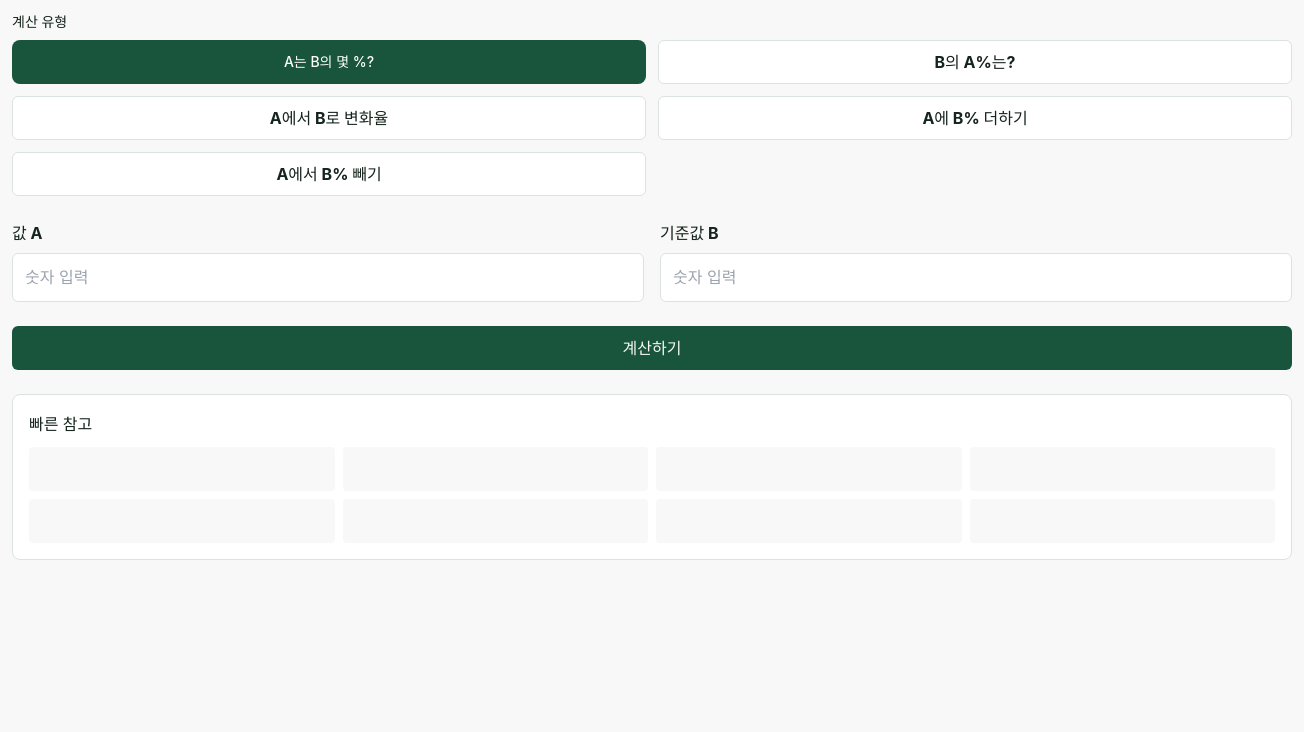
Test: legacy simple tool behavior › calculates percentage boundaries repeatedly without stale output
The image size is (1304, 732).
In the number field labelled "값 A": (328, 278) [12, 253, 644, 302], type "0"
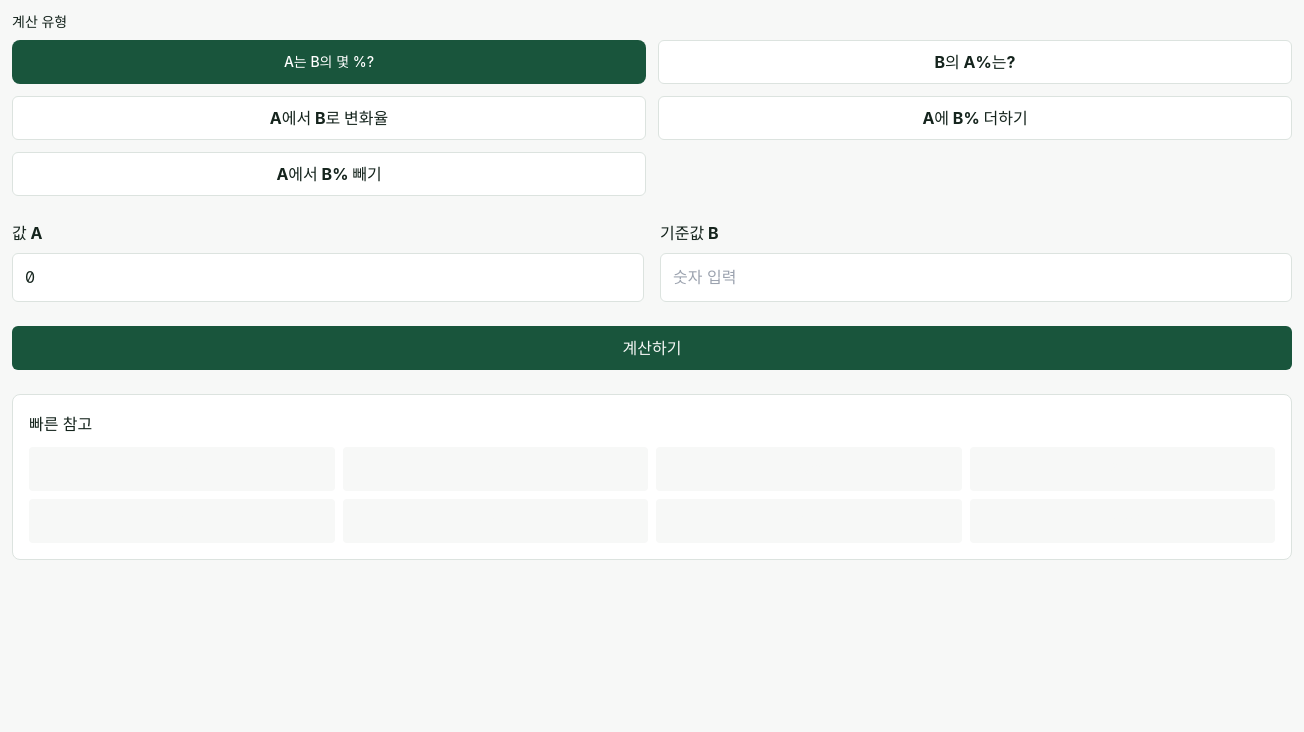
In the number field labelled "기준값 B": (976, 278) [660, 253, 1292, 302], type "100"
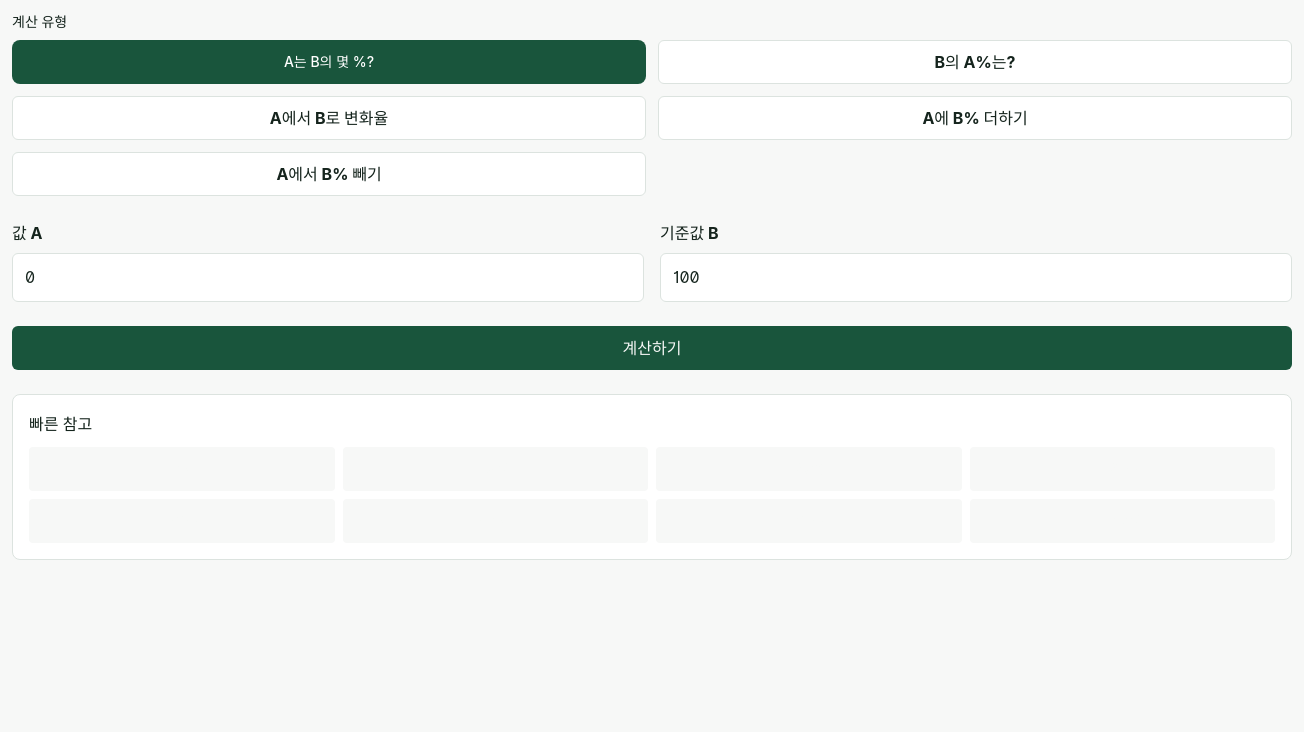
Click the button "계산하기": (652, 348) [12, 326, 1292, 370]
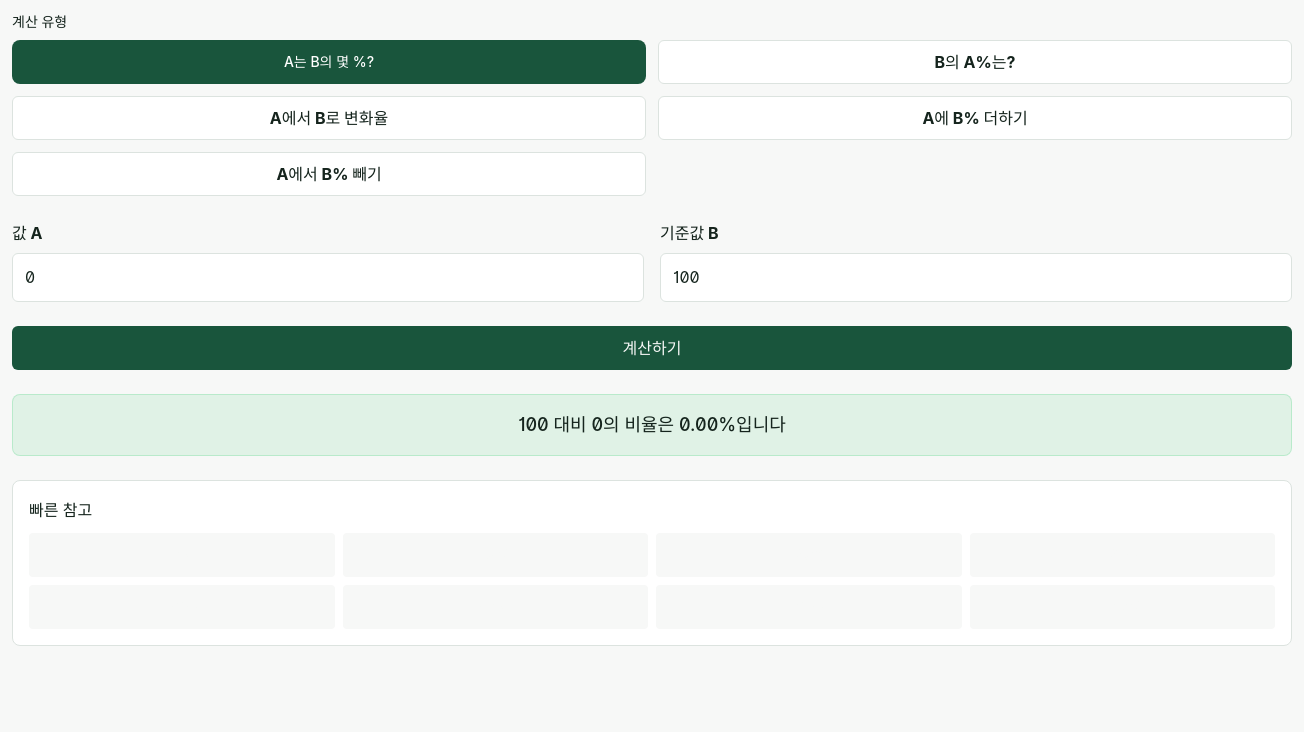
Expected: the text "100 대비 0의 비율은 0.00%입니다" is shown, [518, 414, 786, 435]
Replace the text in the number field labelled "값 A" with "100": (328, 278) [12, 253, 644, 302]
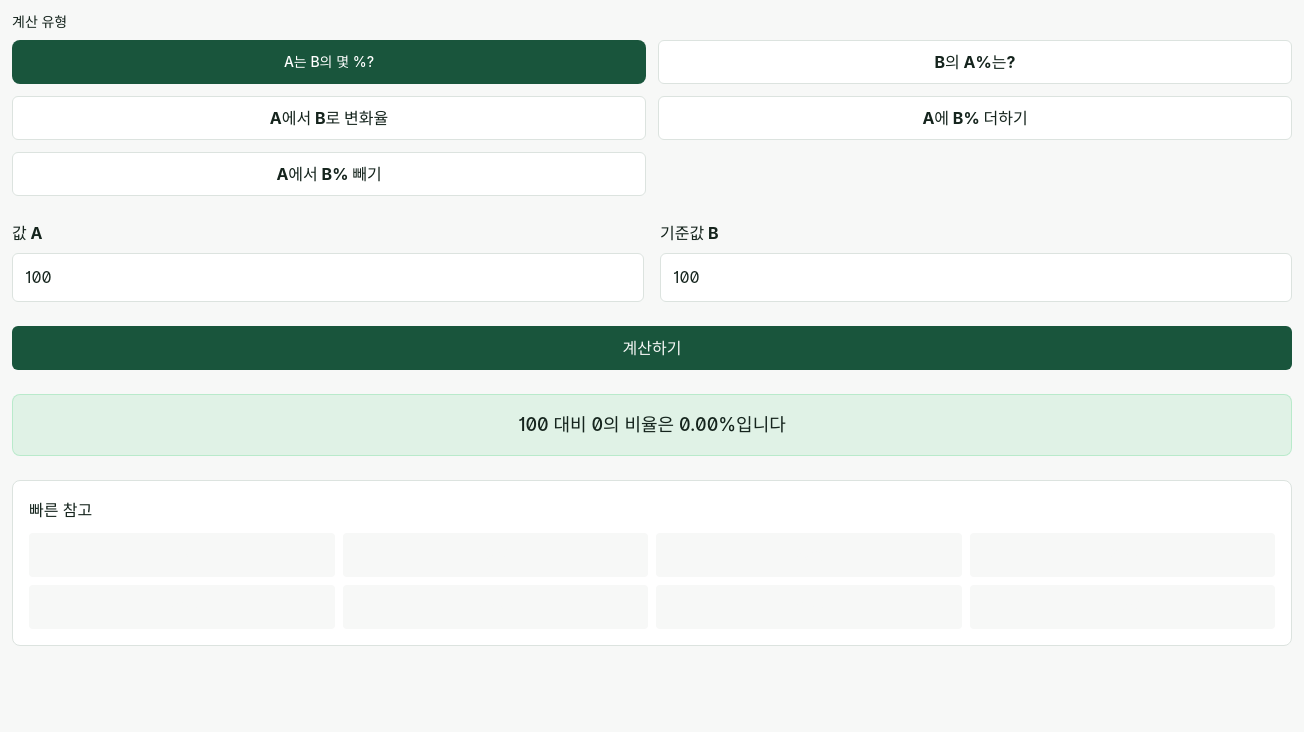
Click the button "계산하기": (652, 348) [12, 326, 1292, 370]
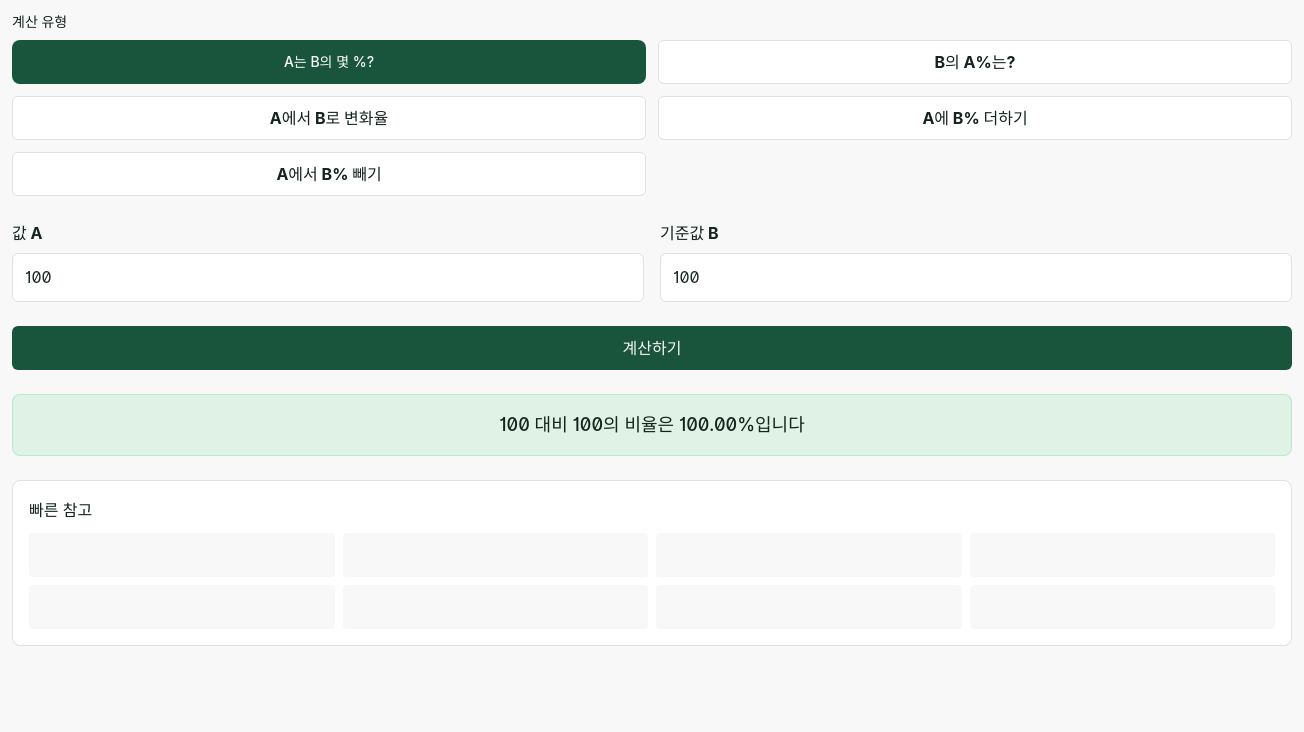
Expected: the text "100 대비 100의 비율은 100.00%입니다" is shown, [499, 414, 805, 435]
